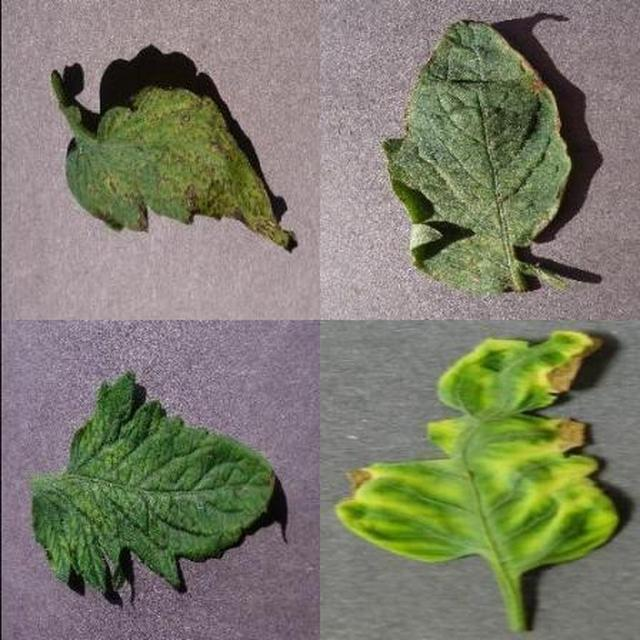Septoria Leaf: (218, 223, 640, 640)
